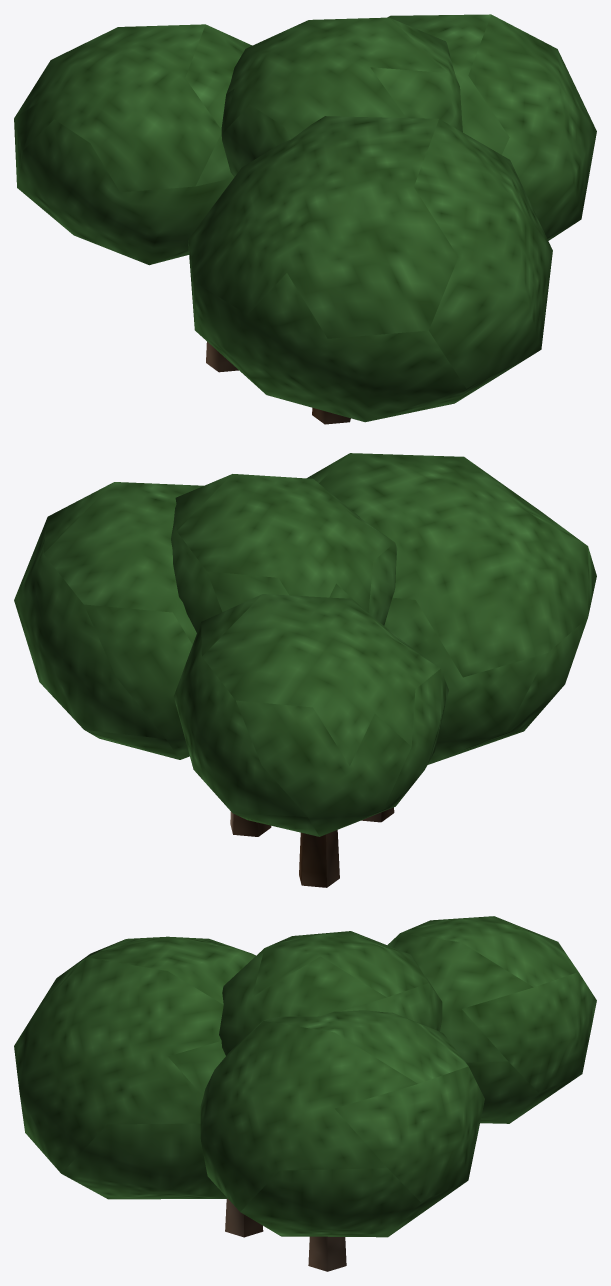
Rendered from shrub_0.glb.
3 views of the same model, one above another, from view 1: azimuth 30°, elevation 25°; view 2: azimuth 150°, elevation 25°; view 3: azimuth 270°, elevation 25° (orthographic). The views are drawn at different scales.
Parts seen in each view (by area): view 1: shrub_0; view 2: shrub_0; view 3: shrub_0.
Boxes of the visible parts, x1,y1,x2,y2 form: shrub_0: (14,14,596,424); shrub_0: (14,453,596,887); shrub_0: (14,916,596,1271).
Bounding box in the file's own units: 1.09 × 0.7819 × 1.31.
Materials: 2 (2 with a texture image).
